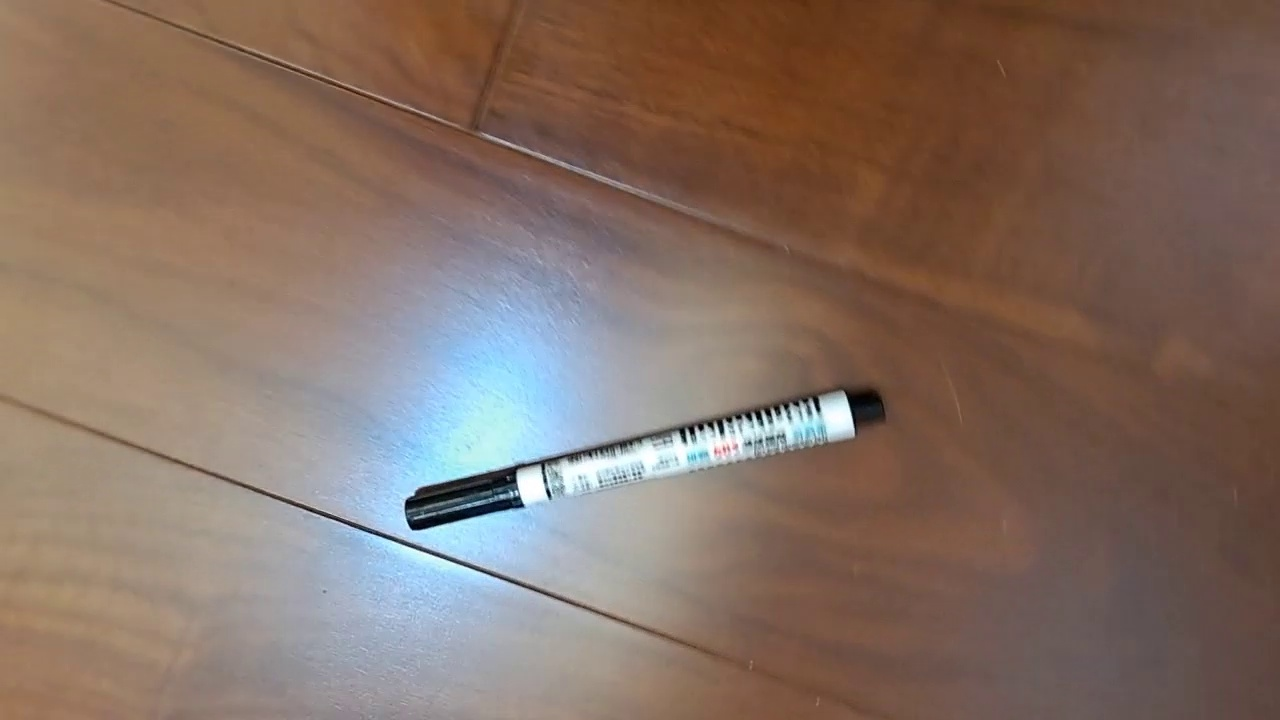pen: (404, 385, 887, 532)
